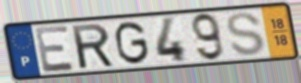4: (154, 15, 189, 64)
9: (190, 12, 226, 63)
E: (32, 24, 78, 75)
G: (113, 19, 152, 67)
R: (69, 22, 117, 72)
S: (225, 11, 267, 58)
